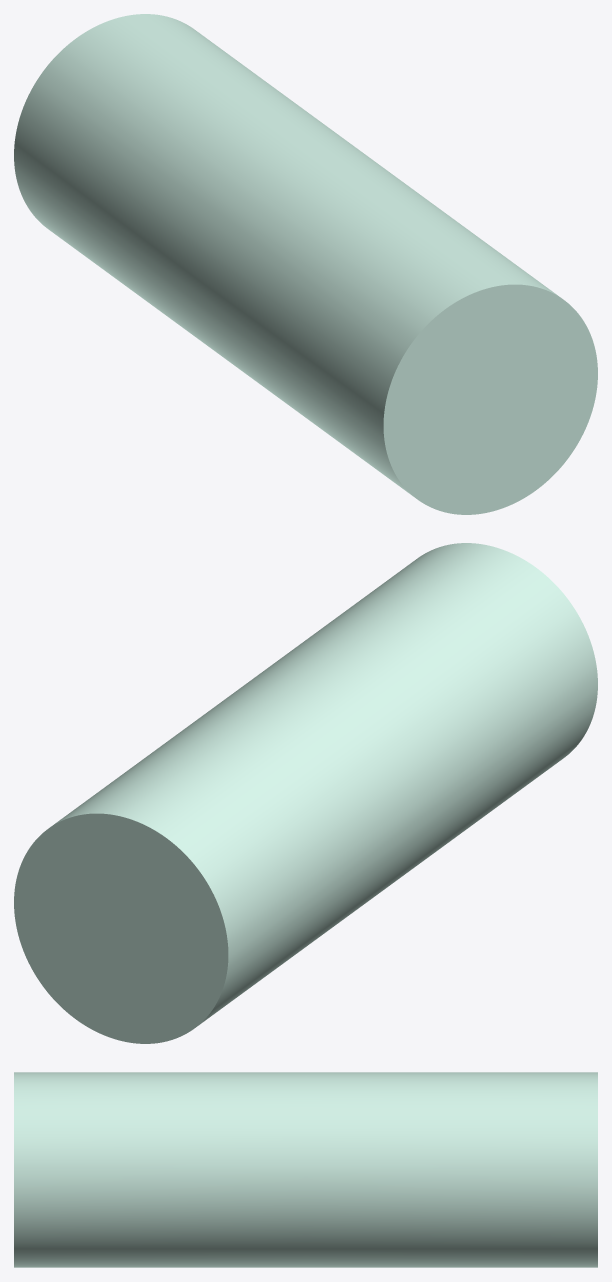
The picture shows the model from 3 angles, top to bottom: view 1: azimuth 30°, elevation 25°; view 2: azimuth 150°, elevation 25°; view 3: azimuth 270°, elevation 25°; orthographic projection. The views are drawn at different scales.
Visible parts, largest first — view 1: Renderer Node; view 2: Renderer Node; view 3: Renderer Node.
Boxes of the visible parts, bbox=[...] form: Renderer Node: bbox=[14, 14, 597, 514]; Renderer Node: bbox=[14, 543, 597, 1043]; Renderer Node: bbox=[14, 1072, 597, 1267].
Size of the model in its own units: 0.4972 by 0.4974 by 1.48.
